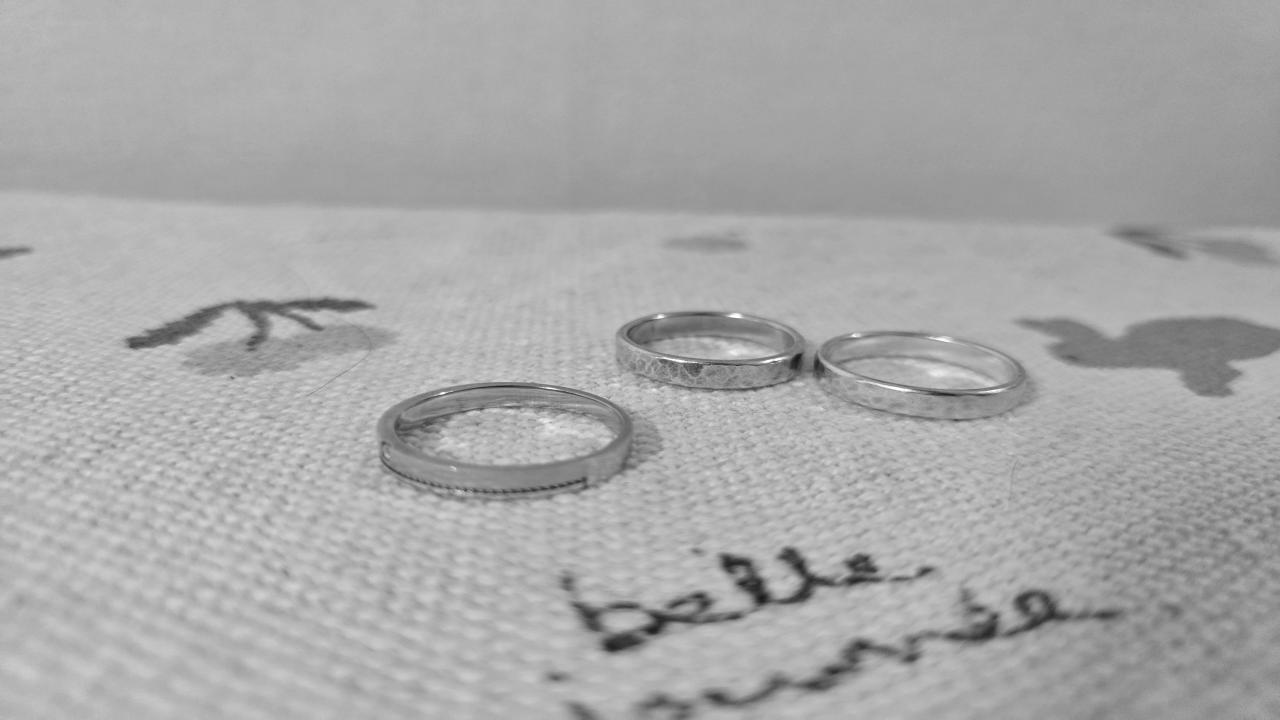ring: (373, 380, 635, 502), (814, 330, 1028, 421), (615, 310, 803, 391)
